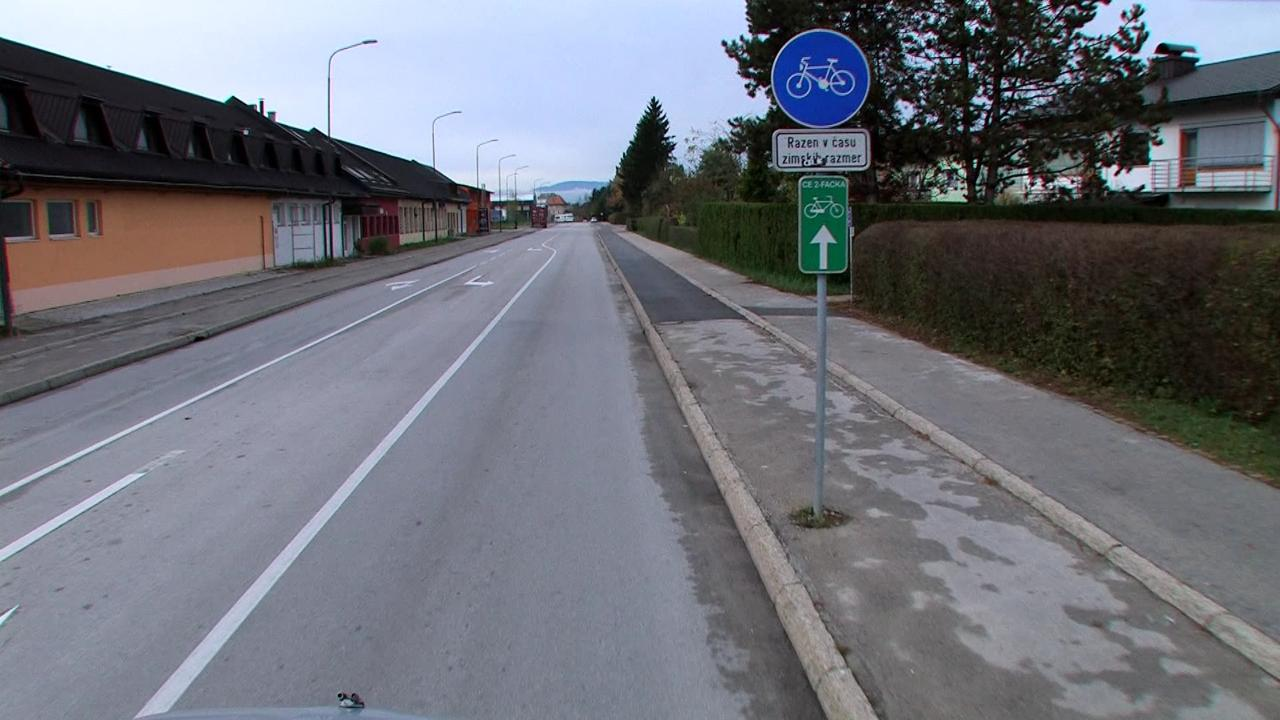Rectangle: (774, 134, 868, 170)
Round: (773, 30, 871, 130)
Squared: (799, 176, 850, 274)
